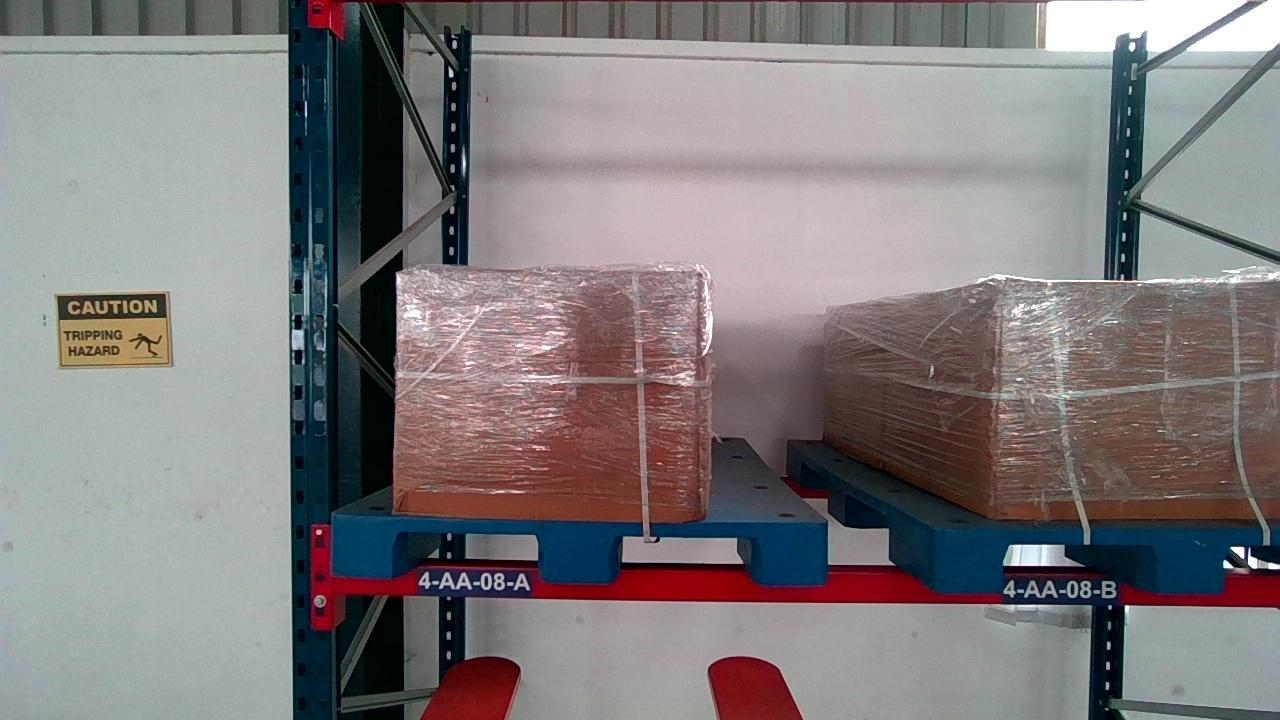h_rack: (332, 558, 1280, 607)
small_pallet: (334, 518, 827, 590), (943, 528, 1280, 594)
